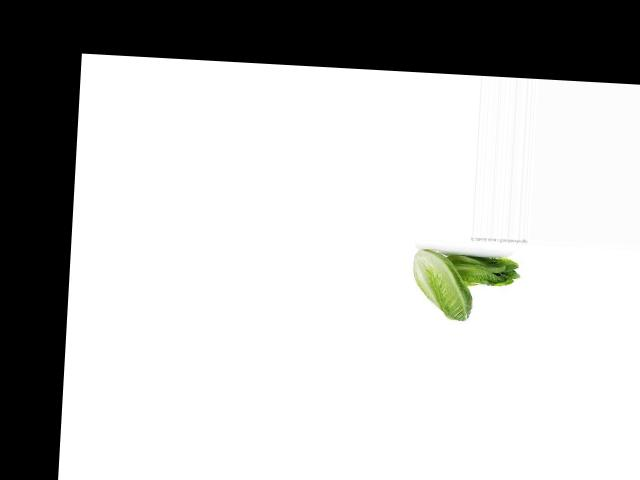lettuce: (445, 244, 520, 295)
